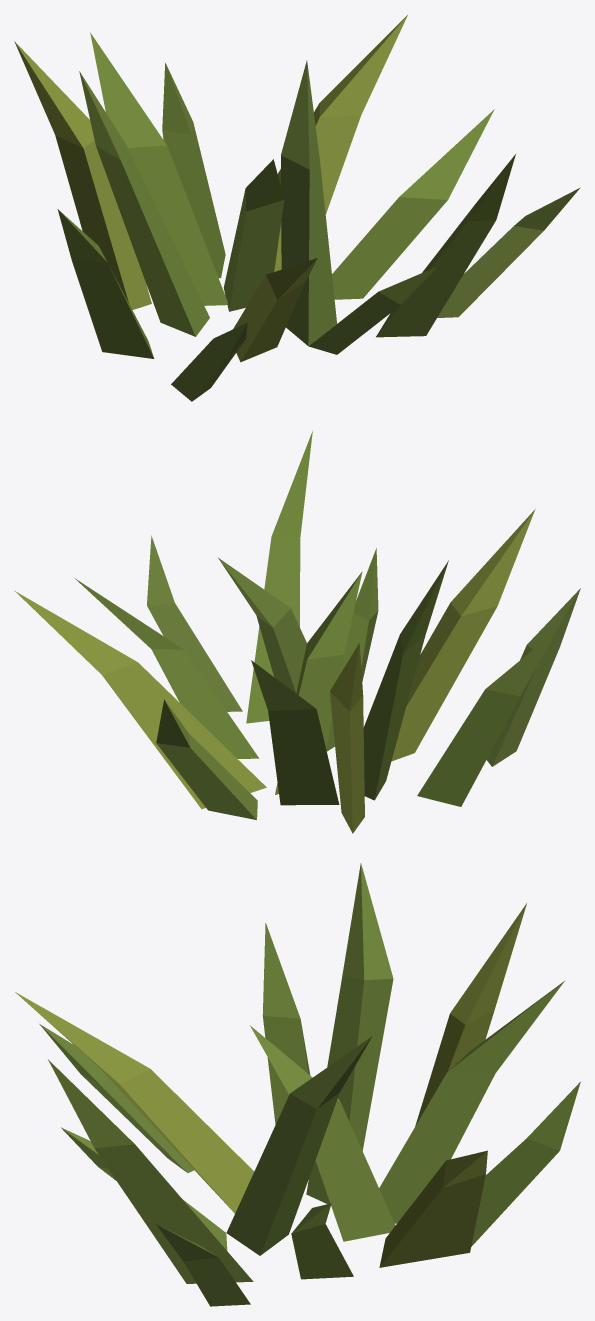
File: Grass_3.fbx
The picture shows the model from 3 angles, top to bottom: view 1: azimuth 30°, elevation 25°; view 2: azimuth 150°, elevation 25°; view 3: azimuth 270°, elevation 25°; orthographic projection. The views are drawn at different scales.
Parts seen in each view (by area): view 1: Grass_3; view 2: Grass_3; view 3: Grass_3.
Part boxes in pixels (bbox=[...]): Grass_3: bbox=[14, 15, 580, 401]; Grass_3: bbox=[15, 431, 580, 833]; Grass_3: bbox=[15, 863, 580, 1306].
Size of the model in its own units: 57.14 by 31.25 by 56.31.
